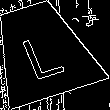L_N: (15, 22, 68, 80)
